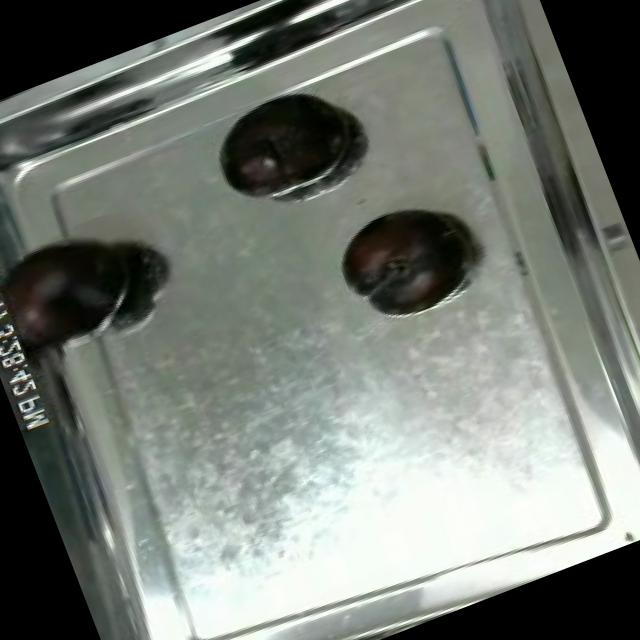Fruit: (200, 74, 364, 216), (322, 190, 478, 330)
